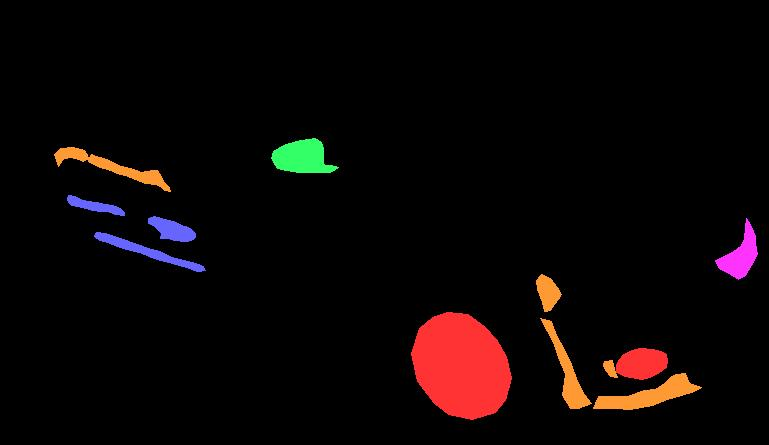Broken part: (271, 138, 338, 172)
Dent: (715, 218, 757, 279)
Missing part: (411, 312, 511, 419), (616, 348, 667, 379)
Paint chip: (540, 318, 591, 408), (593, 373, 701, 409), (88, 154, 170, 191), (536, 274, 561, 311), (54, 147, 88, 166), (603, 360, 617, 377)
Scratch: (94, 232, 205, 271), (148, 216, 195, 241), (67, 195, 124, 215)
